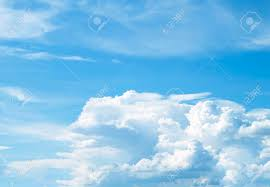sky: (1, 1, 269, 183)
